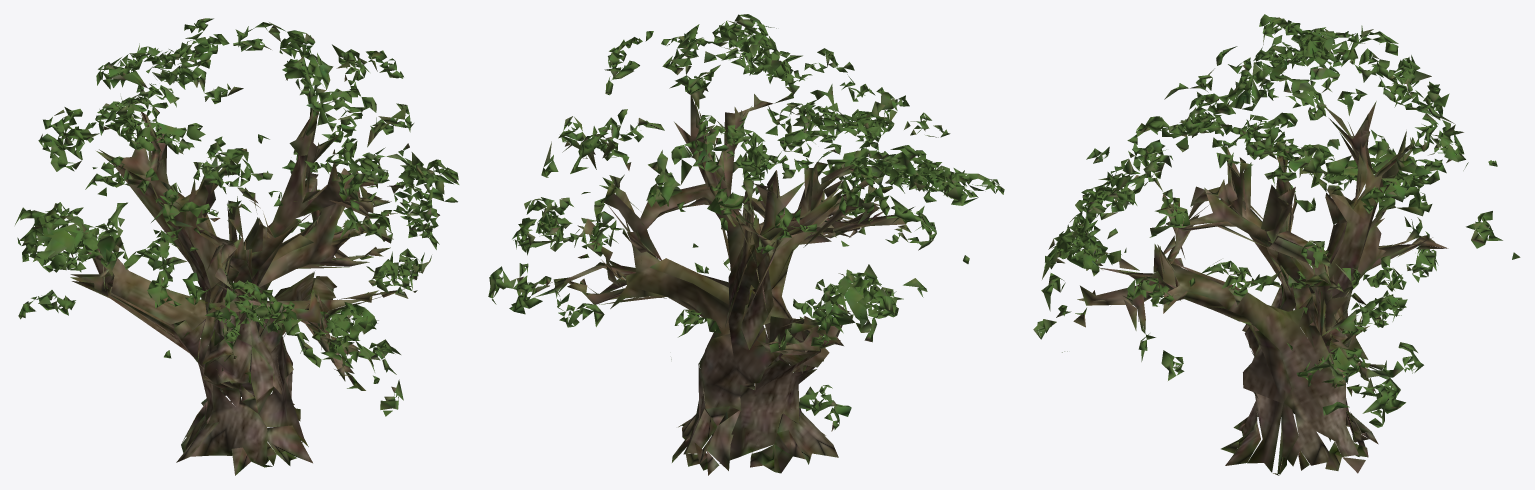
The model's file is wald_eiche.glb.
The picture shows the model from 3 angles, left to right: view 1: azimuth 30°, elevation 25°; view 2: azimuth 150°, elevation 25°; view 3: azimuth 270°, elevation 25°; orthographic projection. The views are drawn at different scales.
Visible parts, largest first — view 1: Prop; view 2: Prop; view 3: Prop.
Boxes of the visible parts, box(x1,y1,x2,y2) form: Prop: box(15, 18, 459, 475); Prop: box(488, 14, 1004, 475); Prop: box(1033, 14, 1520, 475).
Size of the model in its own units: 1.03 by 1 by 1.07.
Materials: 1 (1 with a texture image).
